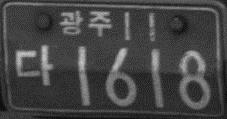1: (149, 46, 166, 110), (75, 44, 91, 108), (145, 10, 158, 43), (122, 10, 131, 43)
6: (104, 44, 138, 106)
8: (179, 50, 212, 112)
광주_O: (58, 8, 112, 37)
다: (15, 42, 55, 89)
